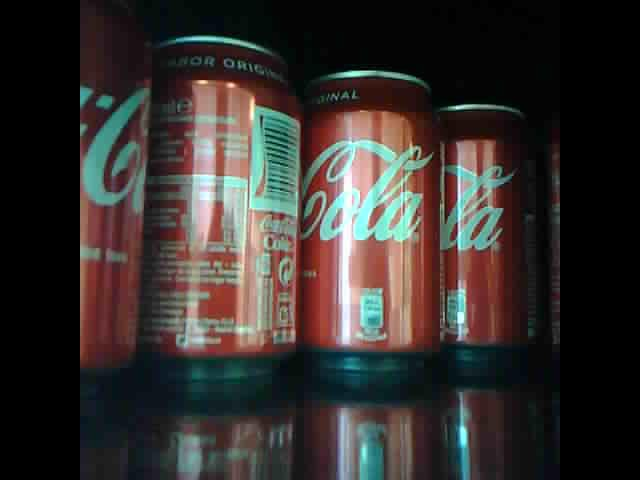coca cola: (152, 28, 302, 371), (301, 69, 441, 371), (77, 8, 151, 383), (438, 100, 541, 351)
